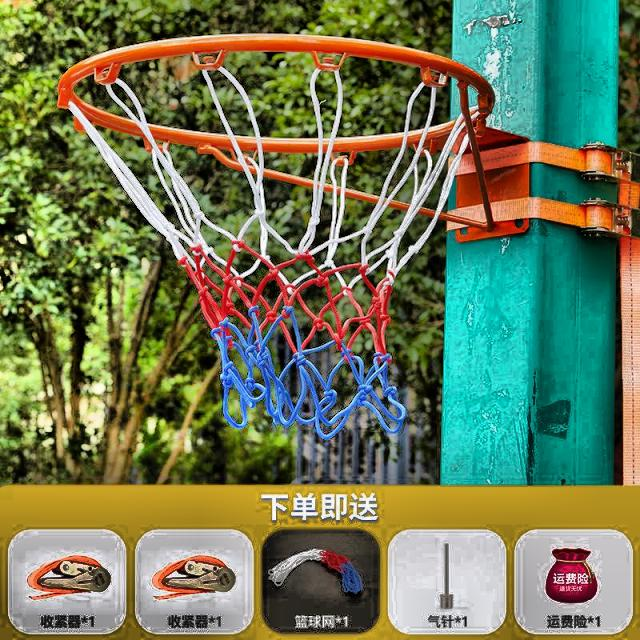rim: (56, 35, 495, 433)
